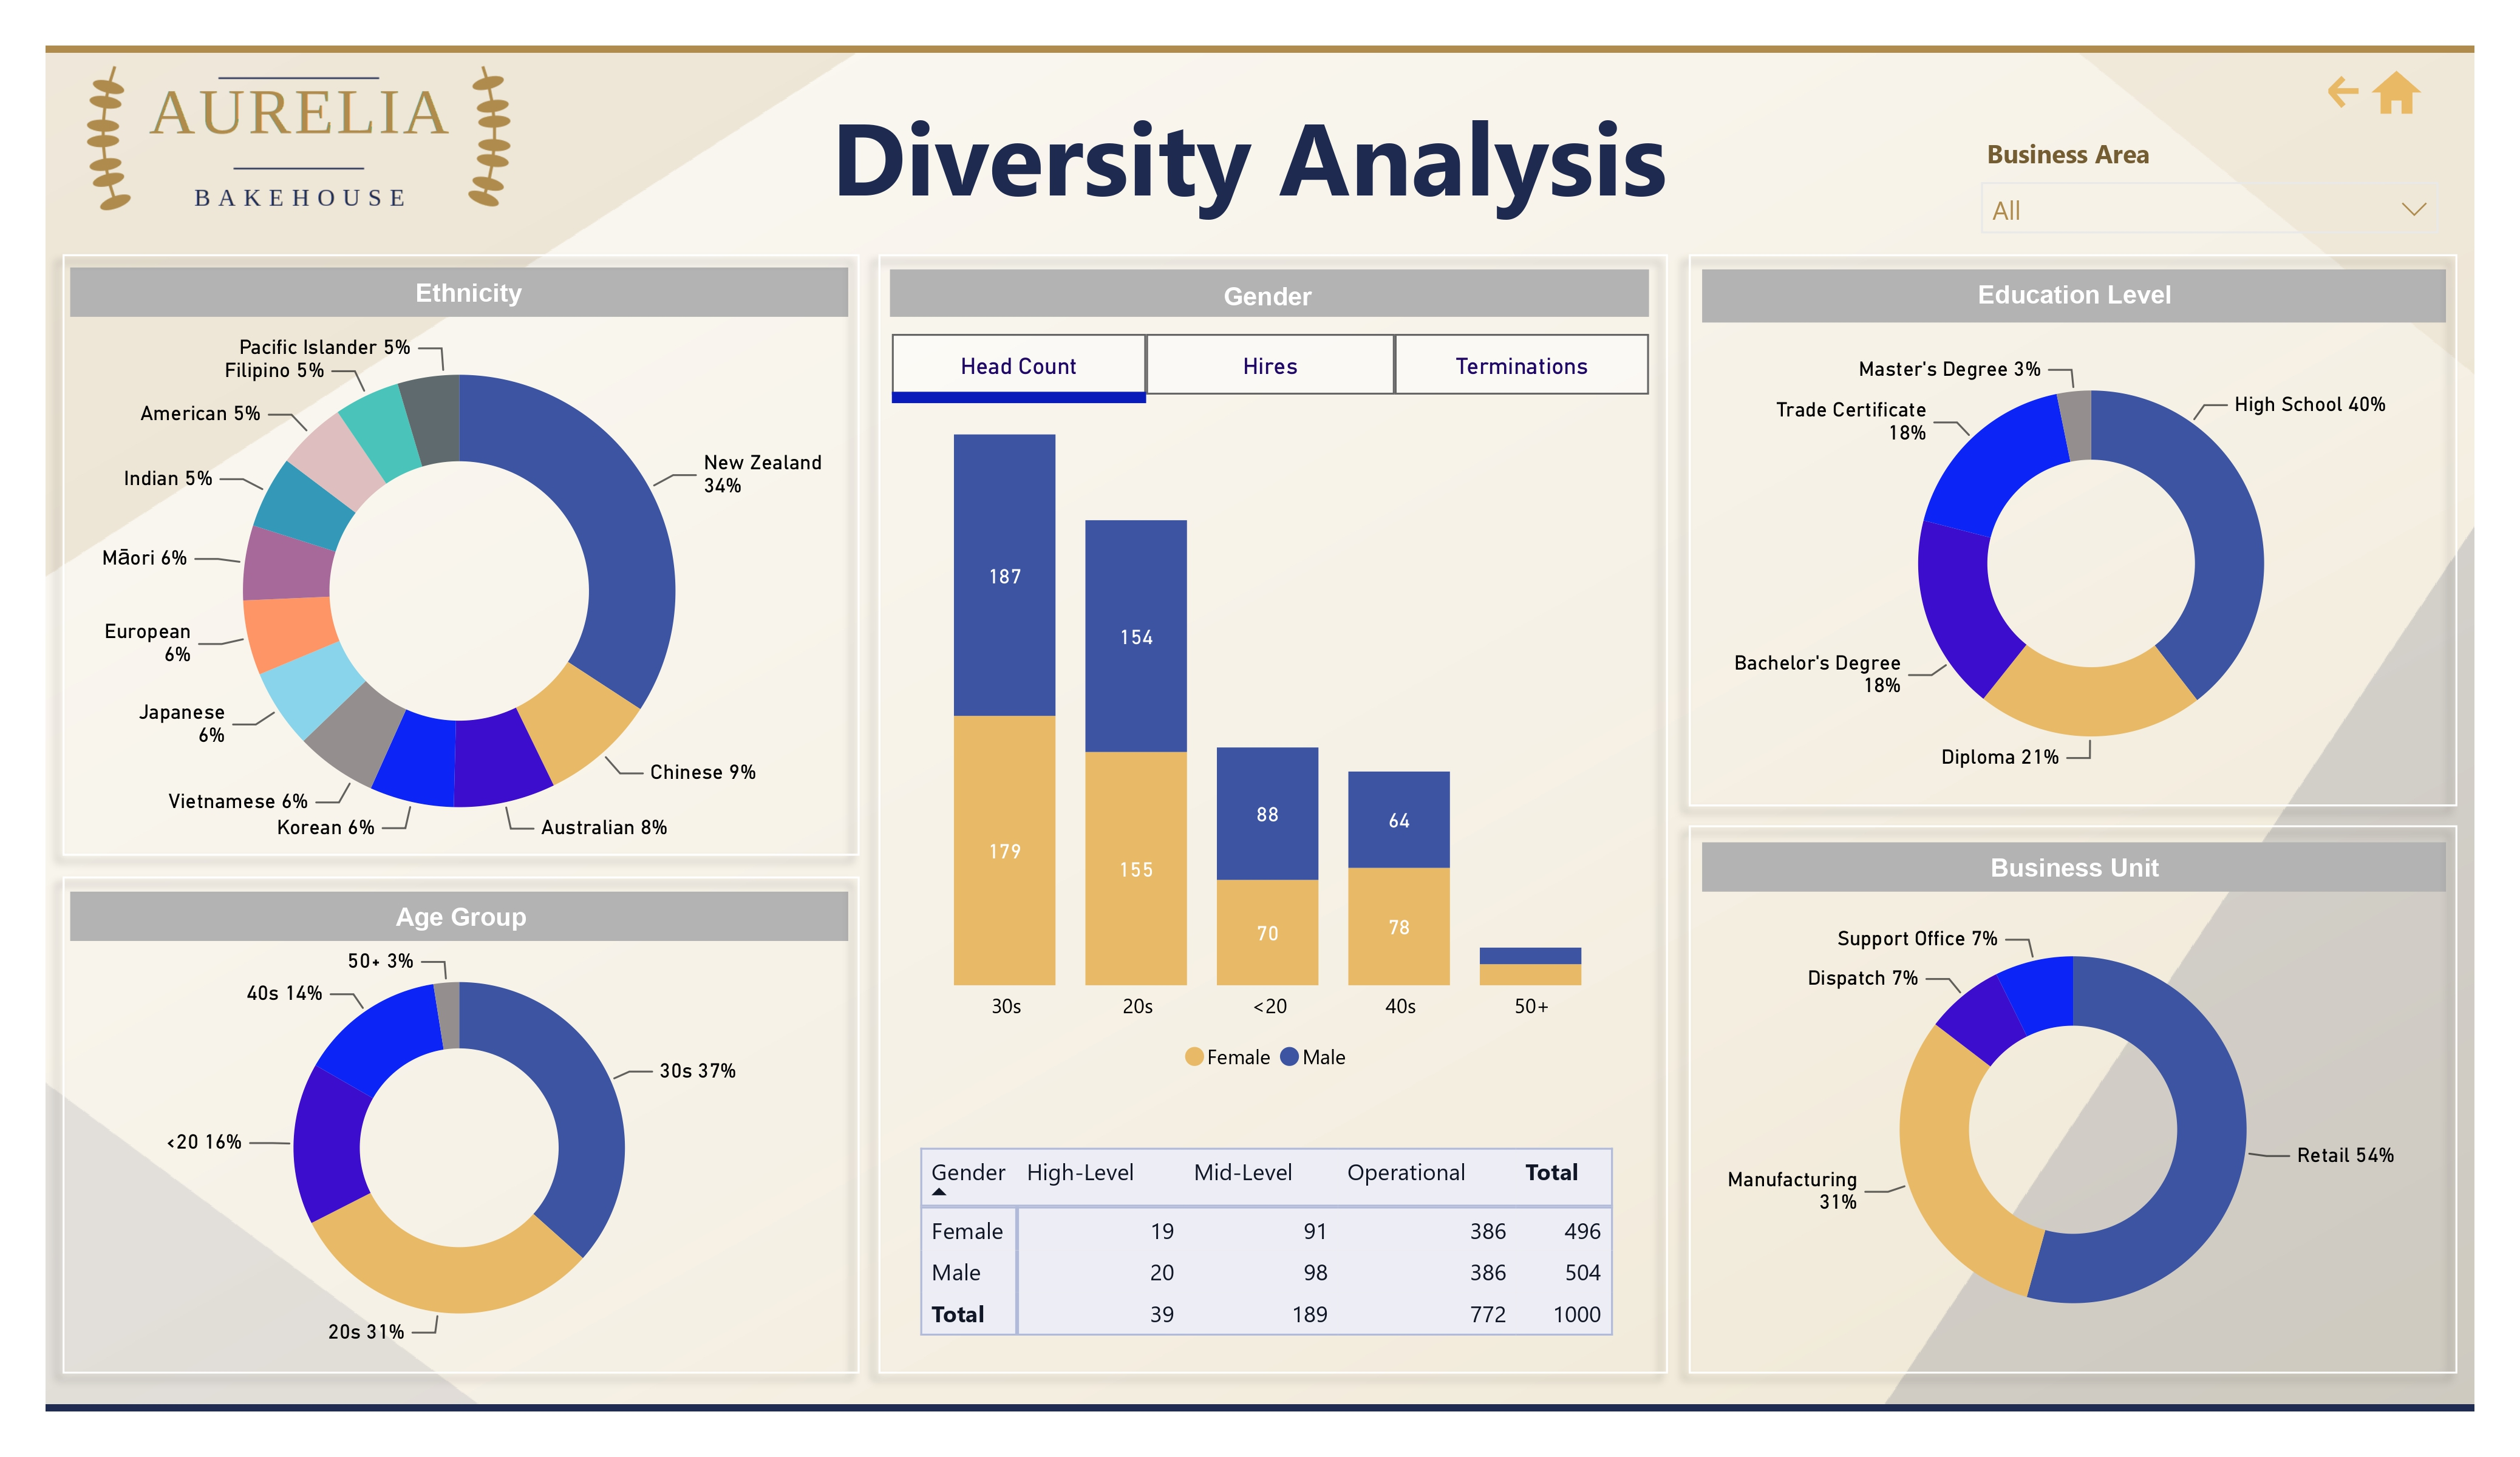

The page's visual inventory and layout, read from the dashboard file:
{"tool":"powerbi","page":{"name":"Diversity","canvas":[1280,720],"ordinal":3},"visuals":[{"type":"shape","box":[430,101.1,433.6,608.3],"z":0},{"type":"shape","box":[445.1,117.6,399.9,25.6],"z":0,"group":"g6"},{"type":"shape","box":[873.1,118.9,391.7,27.1],"z":0,"group":"g3"},{"type":"shape","box":[872.7,420.3,391.7,25.2],"z":0,"group":"g4"},{"type":"shape","box":[12.6,446.4,410.1,25.2],"z":0,"group":"g5"},{"type":"slicer","fields":{"Values":["BusinessUnits.BusinessArea"]},"box":[1010,43.4,260.7,63.8],"z":1000},{"type":"shape","box":[12.6,117.7,410.1,25.3],"z":1000,"group":"g2"},{"type":"image","box":[0,2.9,263.3,93.6],"z":2000},{"type":"textbox","title":"Diversity Analysis","box":[408.6,21.3,462.9,72.7],"z":3000},{"type":"group","id":"g1","title":"Group 1","box":[12.6,444.1,410.2,257],"z":4000},{"type":"donutChart","title":"Education Level","fields":{"Y":["CountNonNull(EmployeeDetails.EmployeeID)"],"Category":["EmployeeDetails.EducationalLevel"]},"box":[882.4,146.4,391.8,254.1],"z":5000},{"type":"donutChart","title":"Ethnicity","fields":{"Y":["CountNonNull(EmployeeDetails.EmployeeID)"],"Category":["EmployeeDetails.Ethnicity"]},"box":[12.6,120.2,410,335],"z":6000,"group":"g2"},{"type":"donutChart","title":"Business Unit","fields":{"Y":["CountNonNull(EmployeeDetails.EmployeeID)"],"Category":["BusinessUnits.BusinessUnit"]},"box":[872.7,444.1,391.8,255],"z":6000},{"type":"group","id":"g2","title":"Group 2","box":[12.6,115.4,410.2,339.4],"z":7000},{"type":"donutChart","title":"Age Group","fields":{"Y":["CountNonNull(EmployeeDetails.EmployeeID)"],"Category":["EmployeeDetails.AgeGroup"]},"box":[12.6,461.5,410,240],"z":7000,"group":"g1"},{"type":"group","id":"g3","title":"Group 4","box":[873.1,116.4,391.2,31],"z":8000},{"type":"group","id":"g4","title":"Group 4","box":[872.7,418,391.5,29],"z":9000},{"type":"shape","box":[0,100.8,438.3,335.5],"z":10000},{"type":"shape","box":[0,428.9,437.7,280.1],"z":11000},{"type":"group","id":"g5","title":"Group 4","box":[12.6,444.1,409.9,29],"z":11000,"group":"g1"},{"type":"shape","box":[857.4,101.1,422.8,309.3],"z":12000},{"type":"textbox","box":[94.3,115.4,256.4,28.9],"z":12000,"group":"g2"},{"type":"shape","box":[857.2,402.4,422.8,306.4],"z":13000},{"type":"textbox","box":[947.3,116.4,244.9,31],"z":16000,"group":"g3"},{"type":"group","id":"g6","title":"Group 4","box":[445.1,117.1,399.9,30.8],"z":16000},{"type":"textbox","box":[522,117.1,244.5,30.8],"z":16000,"group":"g6"},{"type":"textbox","box":[946.9,418,244.9,28.8],"z":16000,"group":"g4"},{"type":"textbox","box":[90.3,444.1,256.5,28.8],"z":16000,"group":"g5"},{"type":"columnChart","title":"Head Count Graph","fields":{"Category":["EmployeeDetails.AgeGroup"],"Y":["CountNonNull(EmployeeDetails.EmployeeID)"],"Series":["EmployeeDetails.Gender"]},"box":[445.8,191.1,398.6,360],"z":17000},{"type":"actionButton","title":"[Button] Head Count","box":[446,151.5,134.2,32.1],"z":18000},{"type":"actionButton","title":"[Button] Hires","box":[580.2,151.5,130.3,32.1],"z":19000},{"type":"actionButton","title":"[Button] Terminations","box":[710.6,151.5,134.2,32.1],"z":20000},{"type":"shape","title":"[Bar] Head Count","box":[446,169.4,133.9,32.8],"z":21000},{"type":"actionButton","box":[1198.8,8.9,24.8,30.1],"z":24000},{"type":"image","box":[1210.3,0,56.7,49.7],"z":25000},{"type":"pivotTable","title":"[Table] Head Count","fields":{"Values":["CountNonNull(EmployeeDetails.EmployeeID)"],"Rows":["EmployeeDetails.Gender"],"Columns":["EmploymentDetails.OrgLevel"]},"box":[456.3,576.4,376.6,124.9],"z":26000}]}

Visuals, with their boxes on the page's 1280x720 design canvas (x1, y1, x2, y2). These are canvas units, not pixel positions in the 2520x1457 screenshot, which may show the page scaled, cropped or inside an application window:
shape: bbox=[430, 101, 864, 709]
shape: bbox=[445, 118, 845, 143]
shape: bbox=[873, 119, 1265, 146]
shape: bbox=[873, 420, 1264, 446]
shape: bbox=[13, 446, 423, 472]
slicer - BusinessUnits.BusinessArea: bbox=[1010, 43, 1271, 107]
shape: bbox=[13, 118, 423, 143]
image: bbox=[0, 3, 263, 96]
"Diversity Analysis" textbox: bbox=[409, 21, 872, 94]
"Group 1" group: bbox=[13, 444, 423, 701]
"Education Level" donutChart: bbox=[882, 146, 1274, 400]
"Ethnicity" donutChart: bbox=[13, 120, 423, 455]
"Business Unit" donutChart: bbox=[873, 444, 1264, 699]
"Group 2" group: bbox=[13, 115, 423, 455]
"Age Group" donutChart: bbox=[13, 462, 423, 702]
"Group 4" group: bbox=[873, 116, 1264, 147]
"Group 4" group: bbox=[873, 418, 1264, 447]
shape: bbox=[0, 101, 438, 436]
shape: bbox=[0, 429, 438, 709]
"Group 4" group: bbox=[13, 444, 422, 473]
shape: bbox=[857, 101, 1280, 410]
textbox: bbox=[94, 115, 351, 144]
shape: bbox=[857, 402, 1280, 709]
textbox: bbox=[947, 116, 1192, 147]
"Group 4" group: bbox=[445, 117, 845, 148]
textbox: bbox=[522, 117, 766, 148]
textbox: bbox=[947, 418, 1192, 447]
textbox: bbox=[90, 444, 347, 473]
"Head Count Graph" columnChart: bbox=[446, 191, 844, 551]
"[Button] Head Count" actionButton: bbox=[446, 152, 580, 184]
"[Button] Hires" actionButton: bbox=[580, 152, 710, 184]
"[Button] Terminations" actionButton: bbox=[711, 152, 845, 184]
"[Bar] Head Count" shape: bbox=[446, 169, 580, 202]
actionButton: bbox=[1199, 9, 1224, 39]
image: bbox=[1210, 0, 1267, 50]
"[Table] Head Count" pivotTable: bbox=[456, 576, 833, 701]
